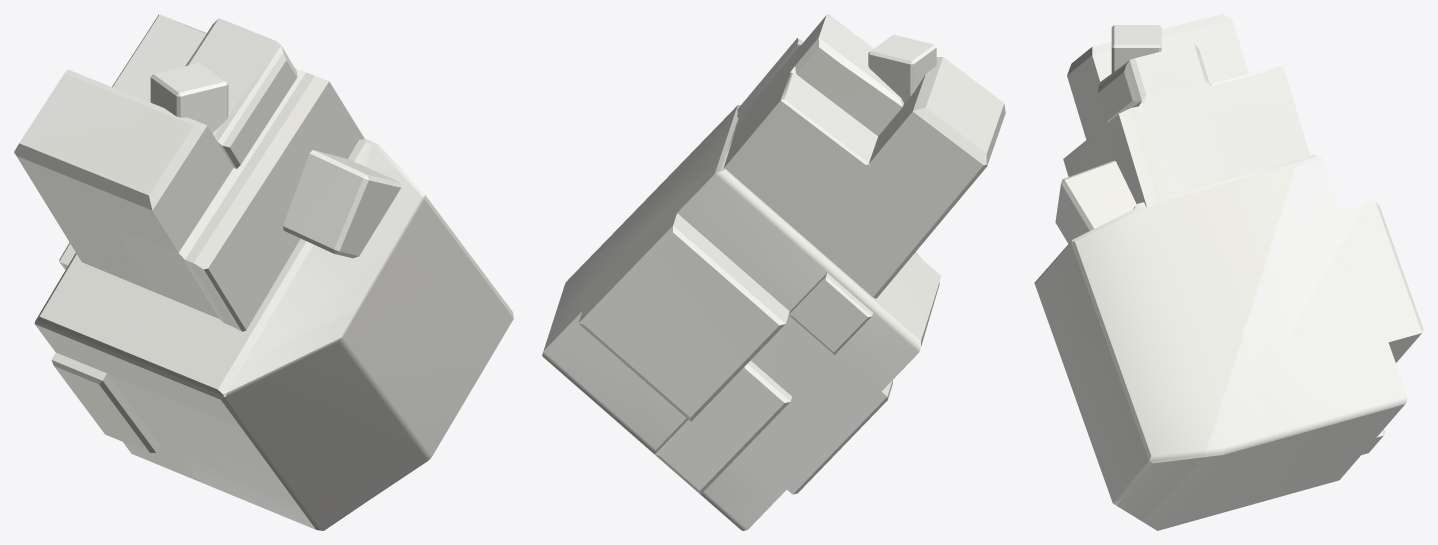
File: Crystal_Calcite.fbx
3 renders of one model, left to right at view 1: azimuth 30°, elevation 25°; view 2: azimuth 150°, elevation 25°; view 3: azimuth 270°, elevation 25°, orthographic. The views are drawn at different scales.
Parts seen in each view (by area): view 1: pCube3; view 2: pCube3; view 3: pCube3.
Boxes of the visible parts, bbox=[...] form: pCube3: bbox=[14, 14, 513, 530]; pCube3: bbox=[542, 14, 1005, 530]; pCube3: bbox=[1034, 14, 1423, 530].
Size of the model in its own units: 0.8191 by 0.8633 by 0.6742.
Materials: 1 (1 with a texture image).
